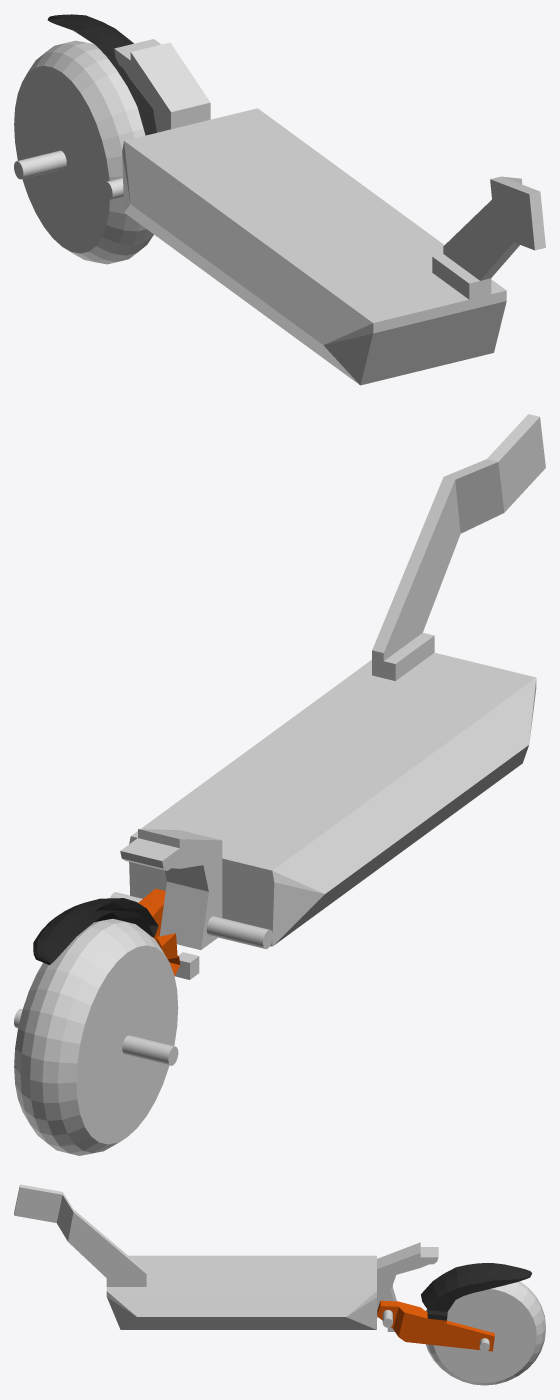
The model's file is hulajka_test_2.glb.
3 views of the same model, one above another, from view 1: azimuth 30°, elevation 25°; view 2: azimuth 150°, elevation 25°; view 3: azimuth 270°, elevation 25° (orthographic). The views are drawn at different scales.
Parts seen in each view (by area): view 1: Cube.002, Cylinder.004, Cube, Cube.001, Cube.007, Cylinder.001; view 2: Cube.002, Cylinder.004, Cube, Cube.001, Cube.007, Cylinder, Cylinder.001, Cube.003, Cube.006; view 3: Cube.002, Cylinder.004, Cube, Cube.007, Cube.003, Cube.001.
Boxes of the visible parts, x1,y1,x2,y2 form: Cube.002: (122, 108, 506, 385); Cylinder.004: (14, 40, 153, 264); Cube: (432, 176, 545, 299); Cube.001: (123, 42, 210, 132); Cube.007: (47, 14, 156, 135); Cylinder.001: (14, 150, 66, 179); Cube.002: (129, 652, 536, 946); Cylinder.004: (14, 918, 178, 1155); Cube: (372, 414, 545, 680); Cube.001: (130, 829, 222, 949); Cube.007: (33, 898, 158, 964); Cylinder: (110, 892, 272, 949); Cylinder.001: (14, 1009, 178, 1065); Cube.003: (138, 888, 180, 975); Cube.006: (120, 844, 171, 870); Cube.002: (106, 1255, 376, 1329); Cylinder.004: (426, 1281, 545, 1385); Cube: (14, 1184, 146, 1286); Cube.007: (421, 1263, 531, 1320); Cube.003: (377, 1300, 494, 1351); Cube.001: (377, 1242, 428, 1317).
Bounding box in the file's own units: 22.94 × 46.11 × 110.
